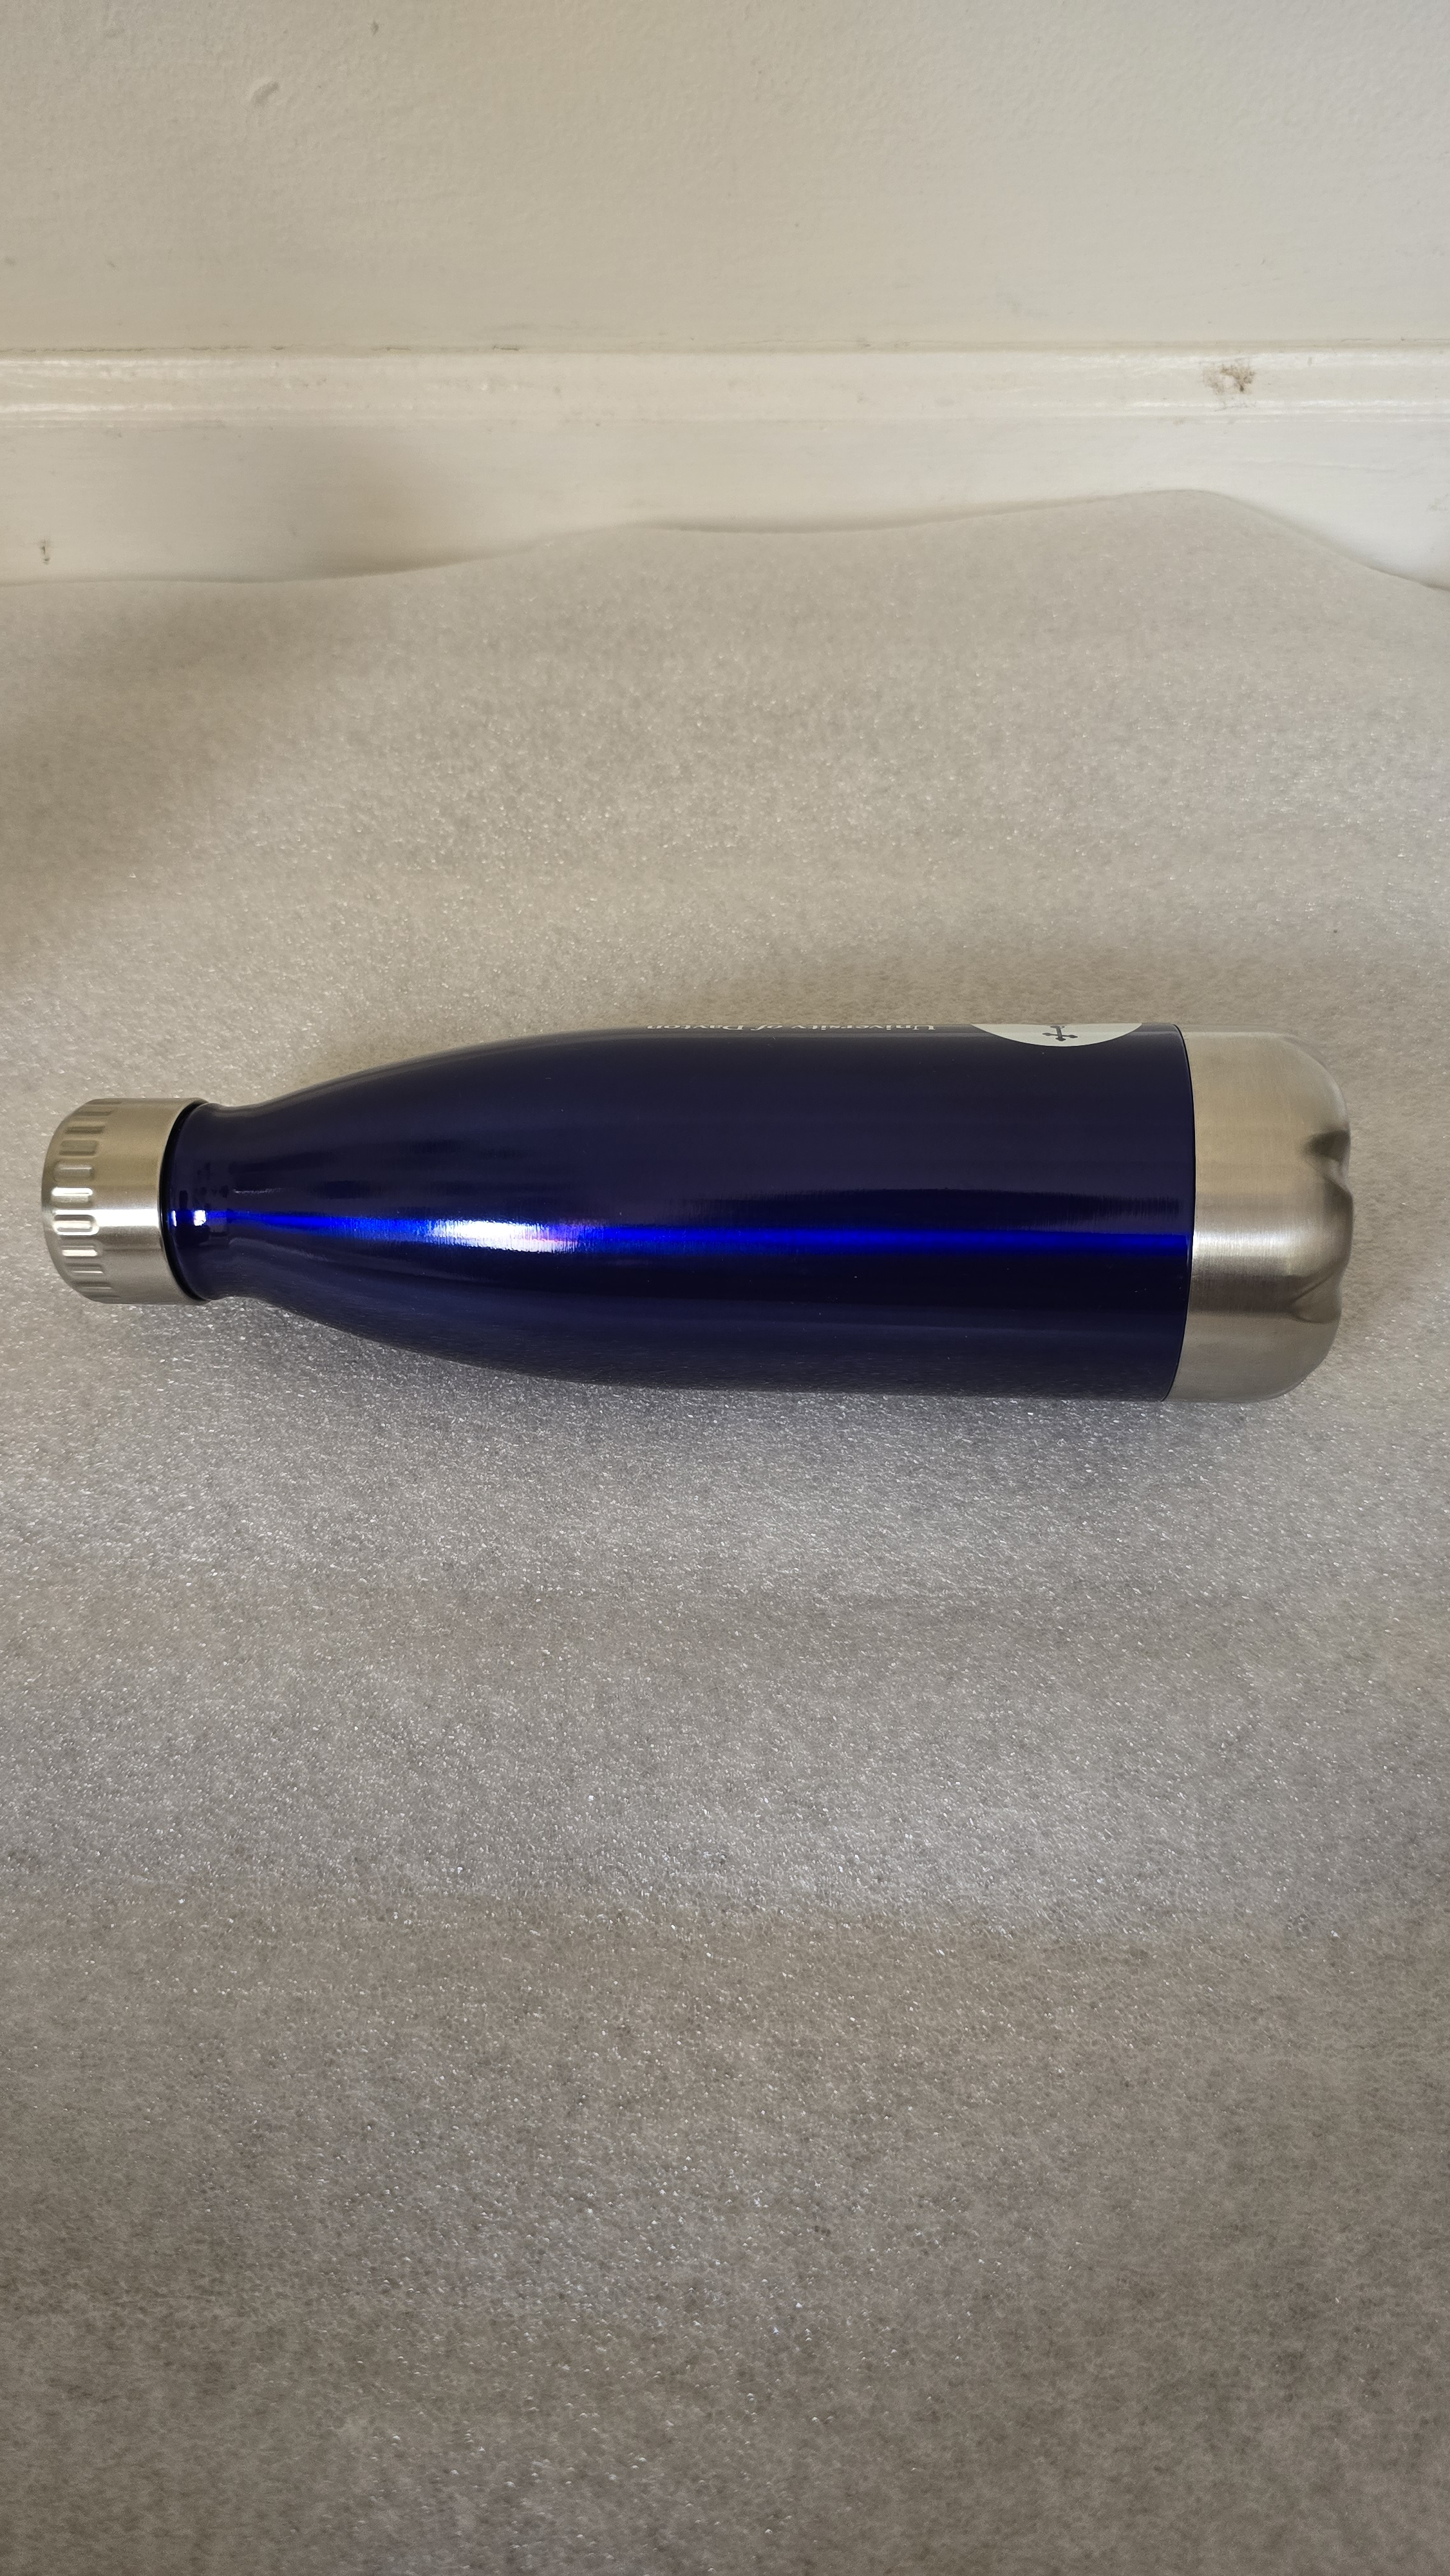bottle: (27, 985, 1427, 1468)
